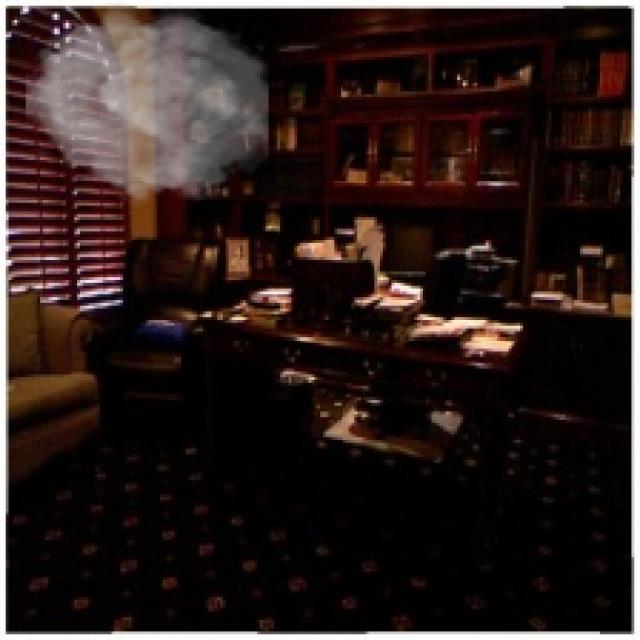smoke: (25, 0, 268, 209)
